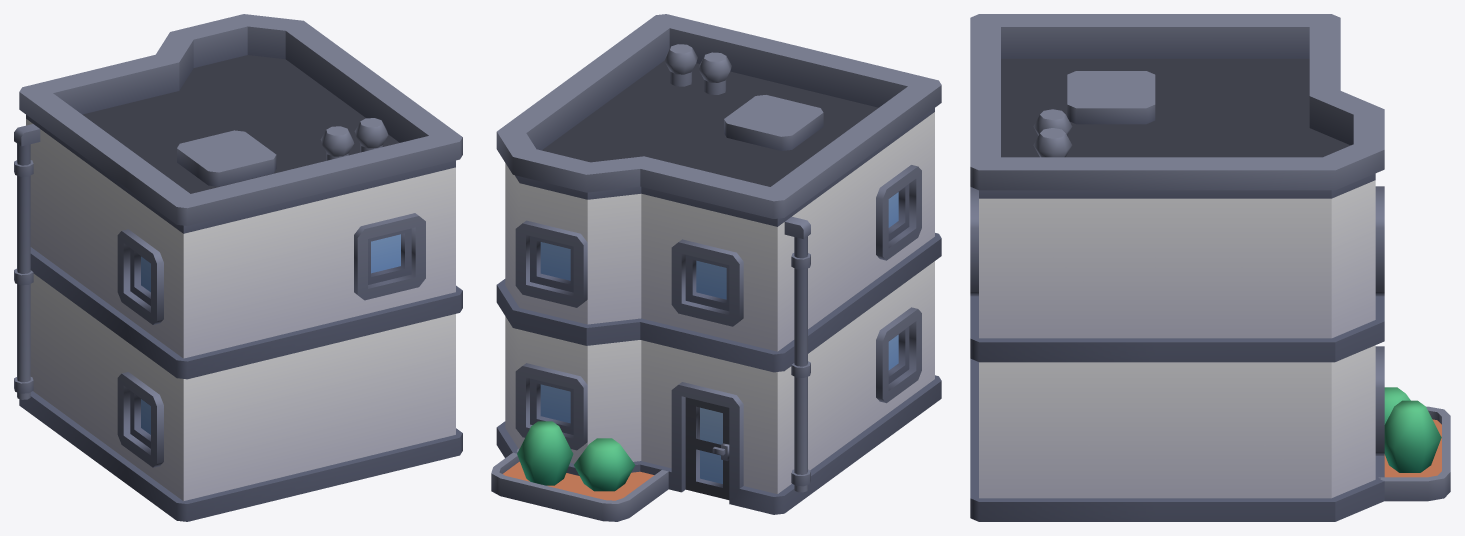
The model's file is building-c.glb.
The picture shows the model from 3 angles, left to right: view 1: azimuth 30°, elevation 25°; view 2: azimuth 150°, elevation 25°; view 3: azimuth 270°, elevation 25°; orthographic projection. The views are drawn at different scales.
Parts seen in each view (by area): view 1: building-c; view 2: building-c; view 3: building-c.
Boxes of the visible parts, <box> form: building-c: <box>14,14,462,521</box>; building-c: <box>491,14,941,521</box>; building-c: <box>970,14,1450,521</box>.
Size of the model in its own units: 0.8836 by 0.8931 by 1.09.
Materials: 1 (1 with a texture image).
